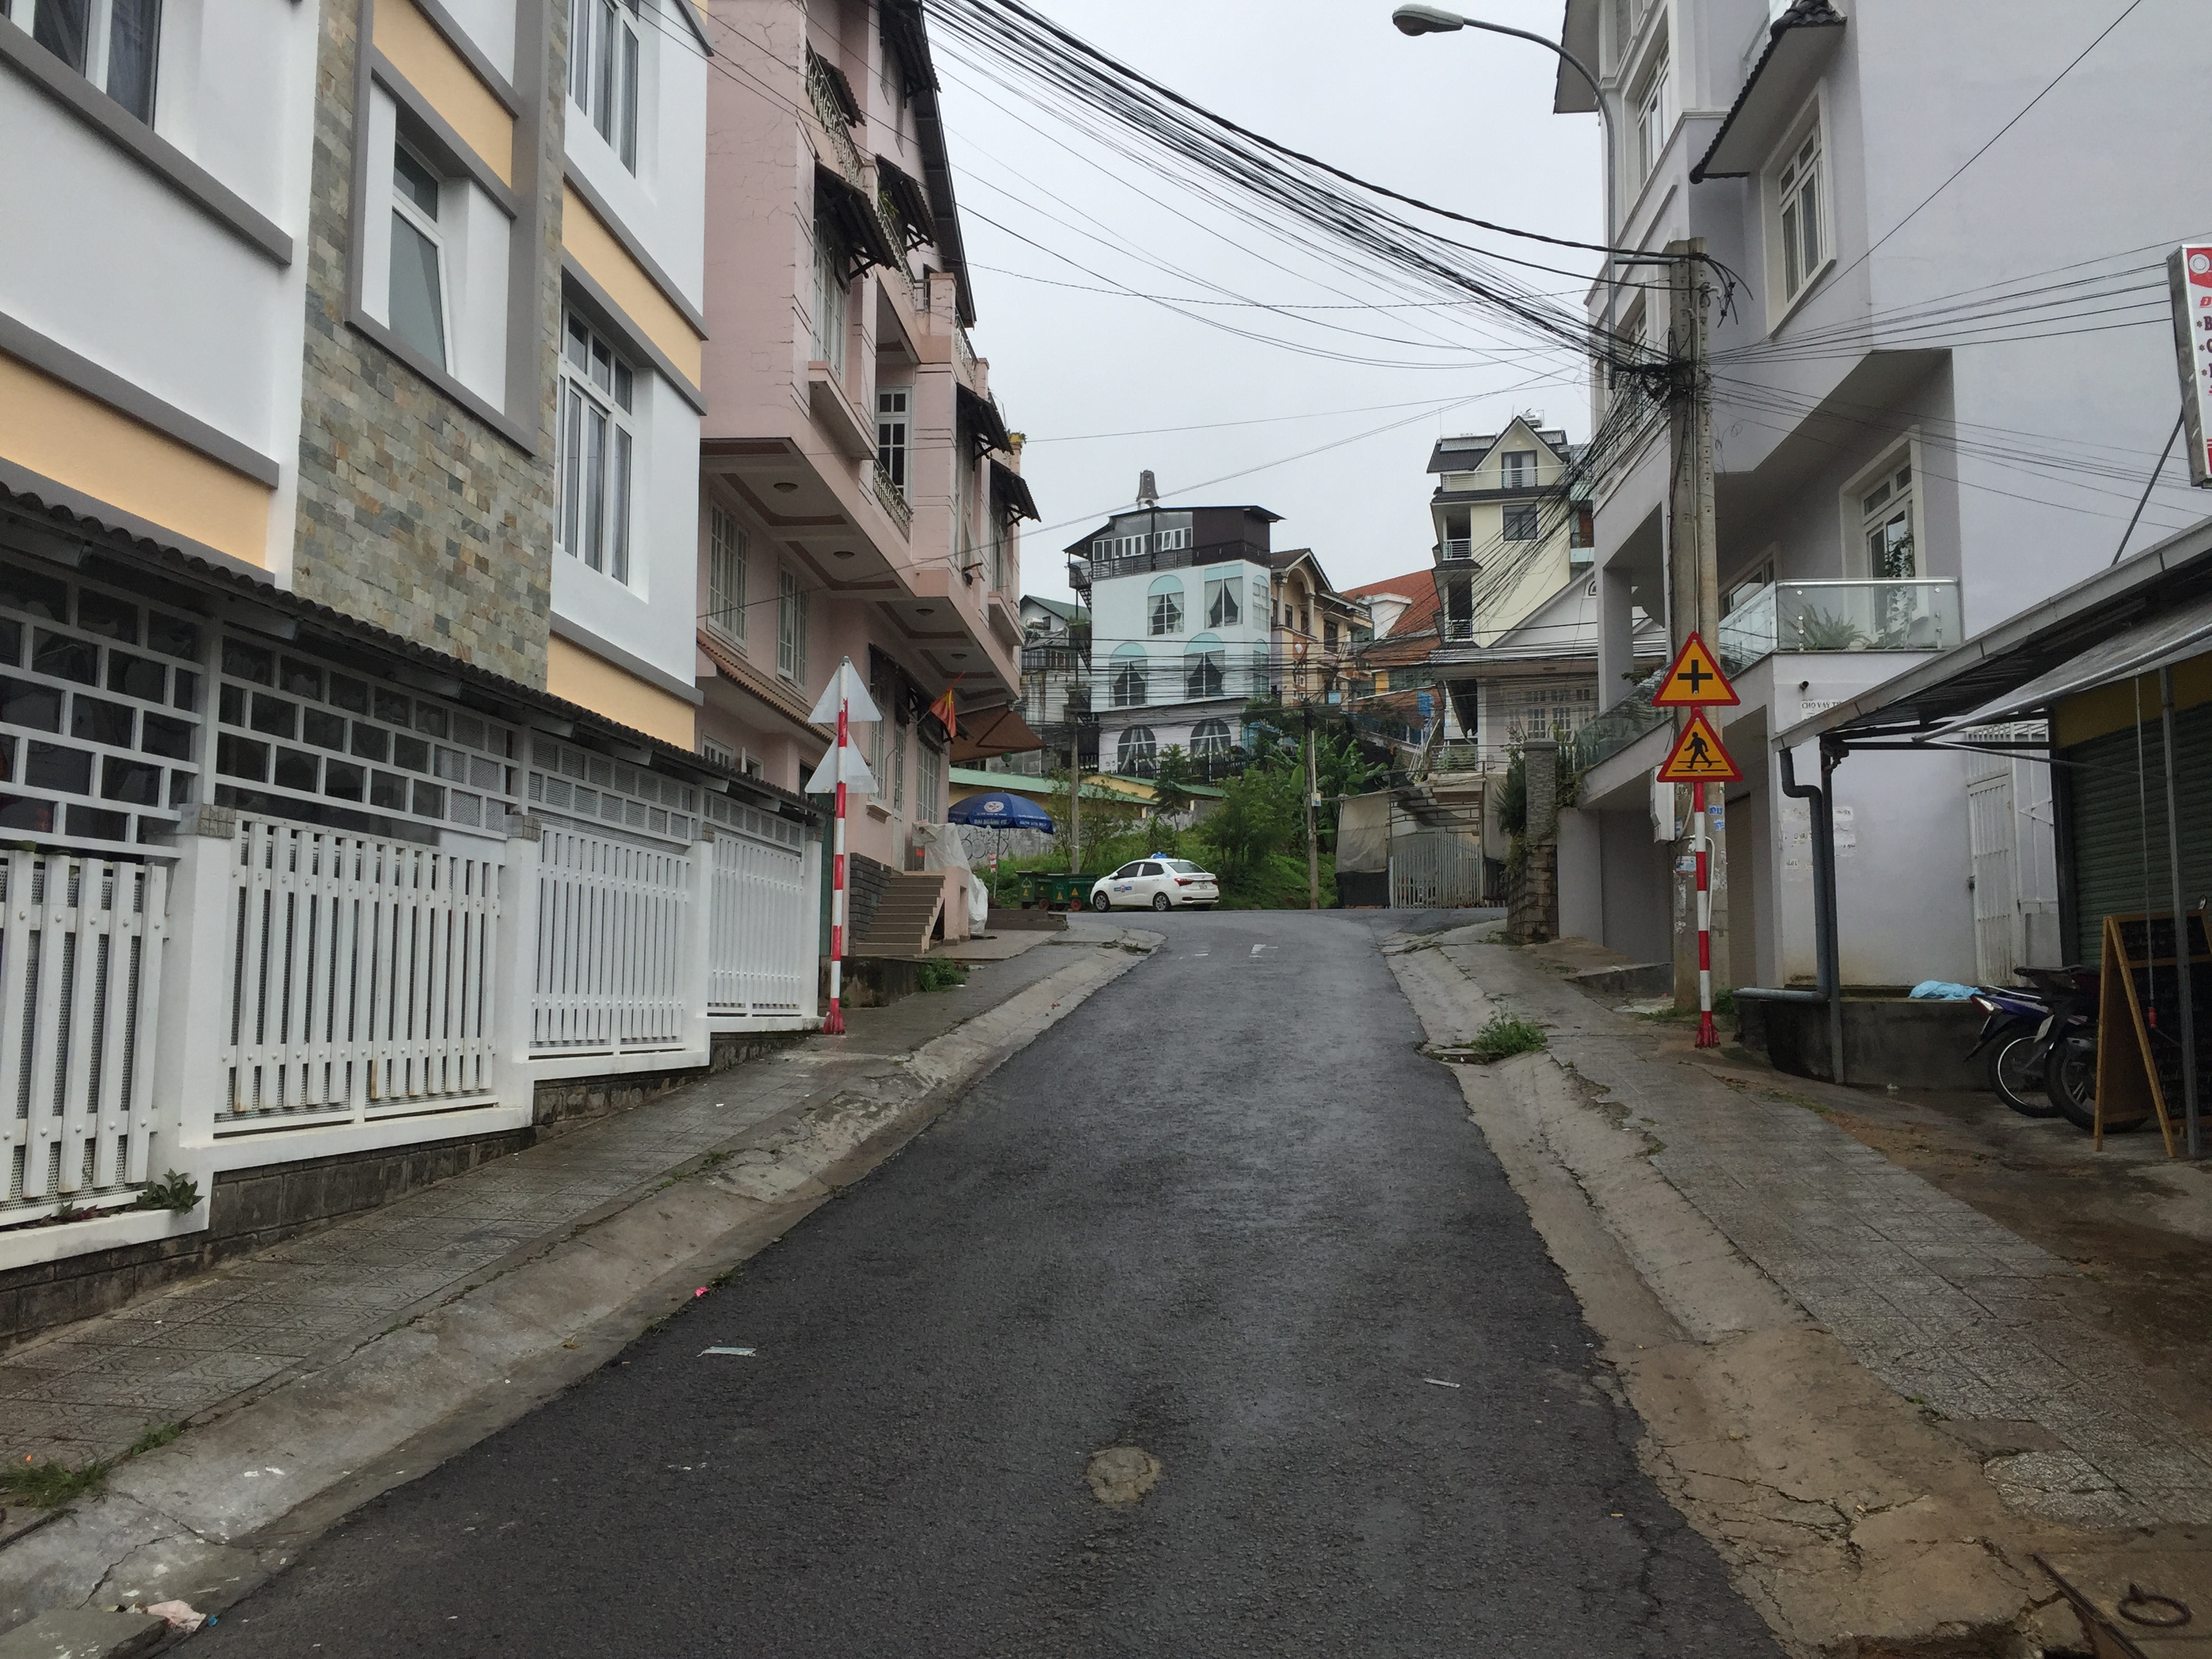hole: (1085, 1439, 1165, 1514)
